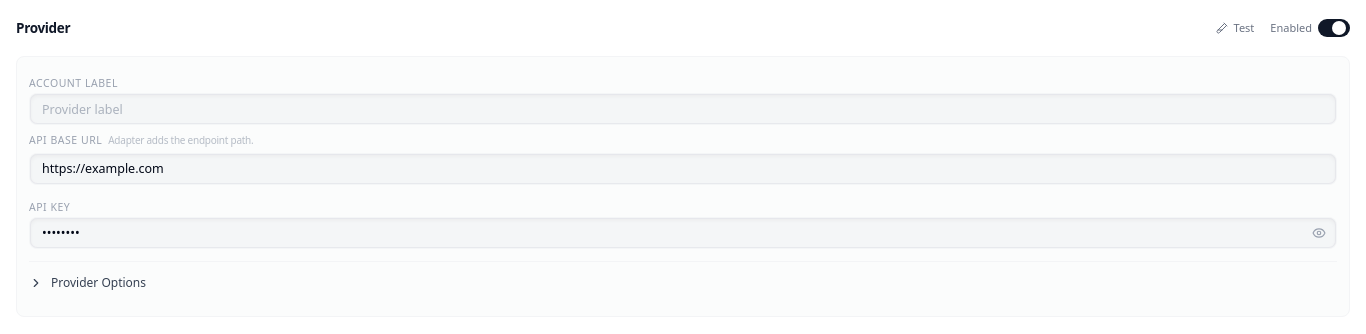
Scenario: invalidates success when configuration changes, including late responses
Click the button with aria-label "Test provider connection" at (1235,28), box [1208, 16, 1262, 40]
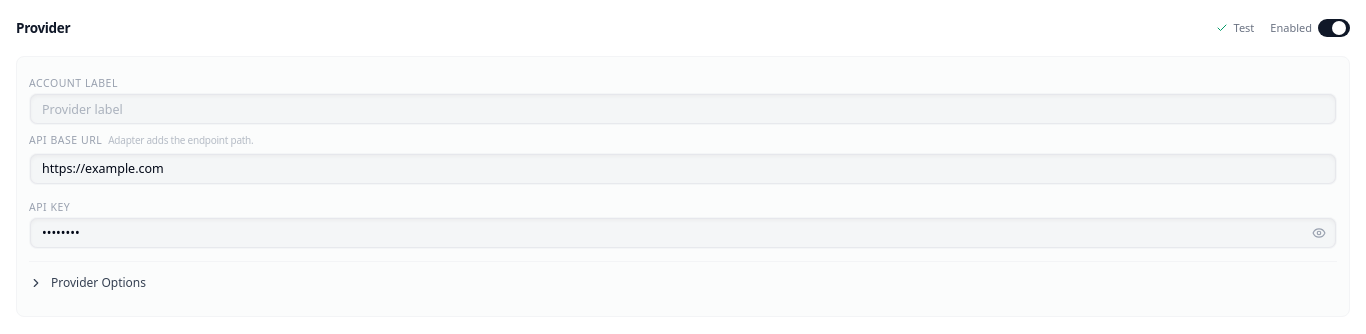
Click the button with aria-label "Test provider connection" at (1235,28), box [1208, 16, 1262, 40]
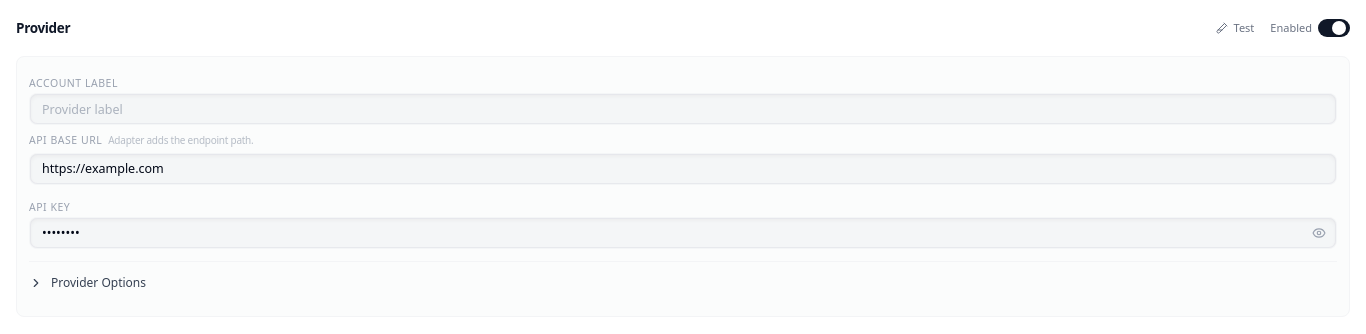
Expected: the icon with class "lucide-check" is gone
